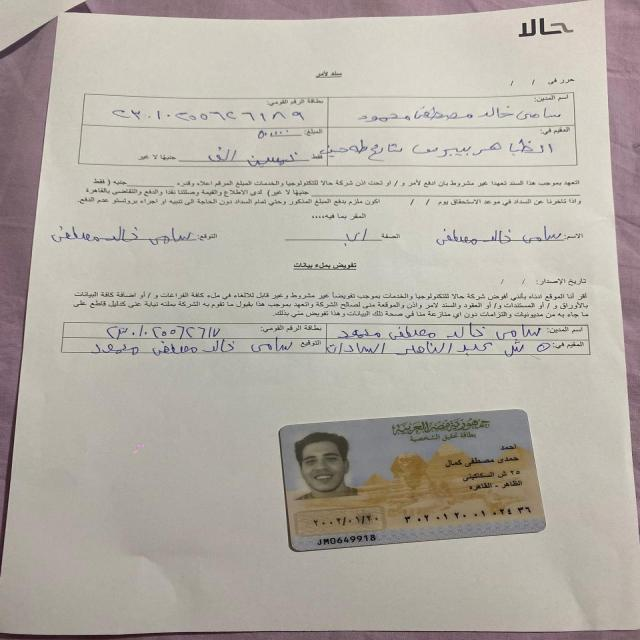ID-cards: (276, 406, 553, 558)
